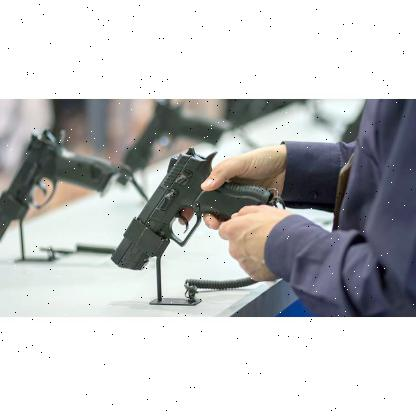gun: (108, 146, 270, 274), (121, 98, 228, 168)
